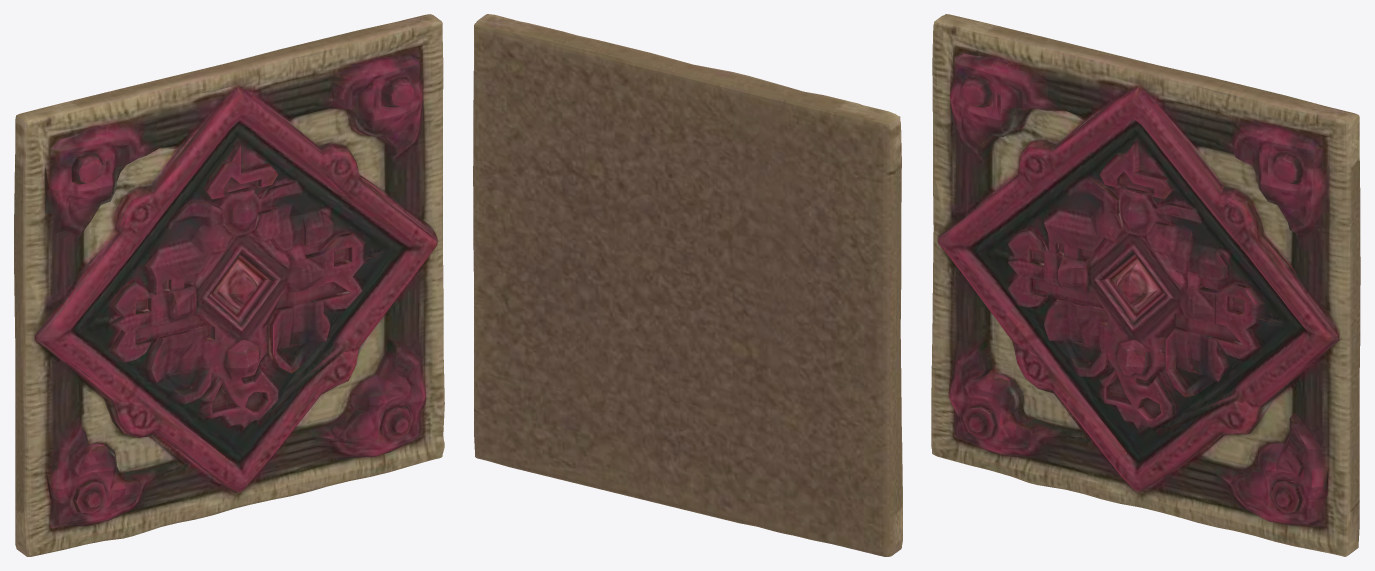
File: rug_crimson.glb
3 views of the same model, side by side, from view 1: azimuth 30°, elevation 25°; view 2: azimuth 150°, elevation 25°; view 3: azimuth 330°, elevation 25° (orthographic).
Size of the model in its own units: 1.91 by 1.9 by 0.2074.
1 material, 1 textured.
